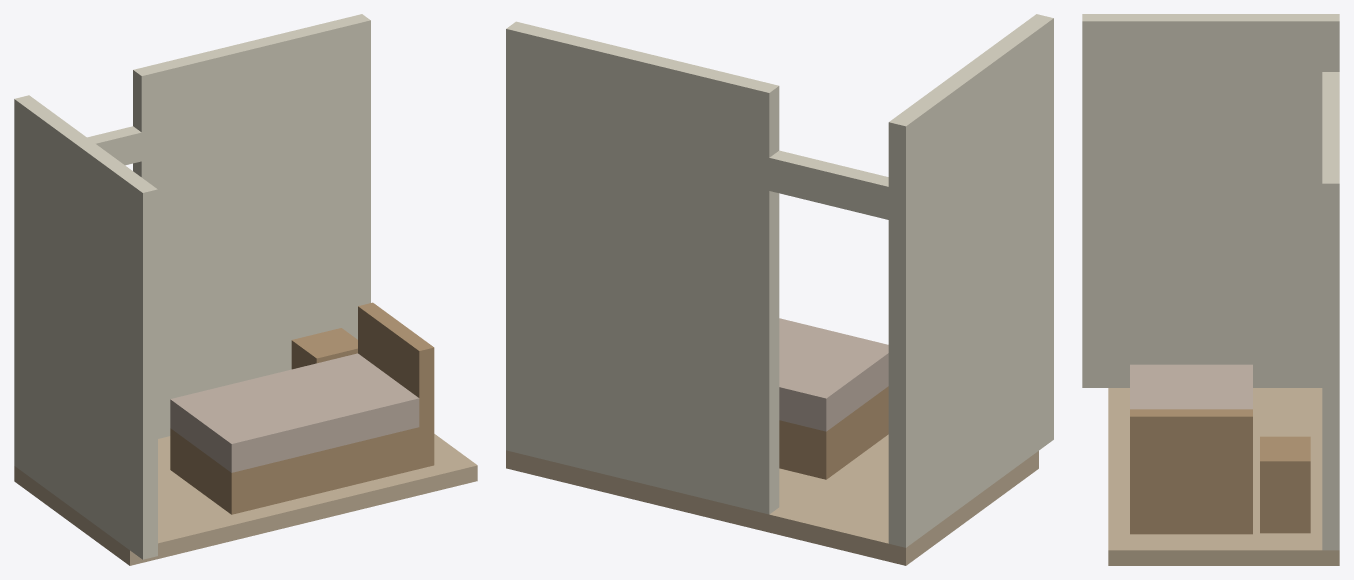
3 views of the same model, side by side, from view 1: azimuth 30°, elevation 25°; view 2: azimuth 150°, elevation 25°; view 3: azimuth 270°, elevation 25° (orthographic). The views are drawn at different scales.
Visible parts, largest first — view 1: BEDN_2, BEDW_1, BED2_7, GROUND_0, BED1_6, BEDH_8, NT1_9, BEDD-lintel_5; view 2: BEDN_2, BEDW_1, GROUND_0, BED2_7, BED1_6, BEDD-lintel_5, BEDD-j2_4, BEDD-j1_3; view 3: BEDW_1, GROUND_0, BEDH_8, BEDN_2, BED2_7, NT1_9.
Part boxes in pixels (left/top/right/bottom): BEDN_2: left=133, top=14, right=370, bottom=438; BEDW_1: left=14, top=95, right=157, bottom=559; BED2_7: left=170, top=353, right=419, bottom=472; GROUND_0: left=14, top=434, right=477, bottom=565; BED1_6: left=170, top=427, right=419, bottom=514; BEDH_8: left=358, top=302, right=434, bottom=468; NT1_9: left=291, top=328, right=357, bottom=369; BEDD-lintel_5: left=87, top=126, right=141, bottom=165; BEDN_2: left=506, top=21, right=779, bottom=514; BEDW_1: left=888, top=14, right=1053, bottom=547; GROUND_0: left=506, top=434, right=1038, bottom=565; BED2_7: left=779, top=318, right=888, bottom=431; BED1_6: left=779, top=386, right=888, bottom=479; BEDD-lintel_5: left=769, top=150, right=888, bottom=219; BEDD-j2_4: left=758, top=166, right=779, bottom=513; BEDD-j1_3: left=888, top=198, right=900, bottom=545; BEDW_1: left=1082, top=14, right=1339, bottom=387; GROUND_0: left=1108, top=388, right=1339, bottom=565; BEDH_8: left=1130, top=409, right=1252, bottom=534; BEDN_2: left=1322, top=72, right=1339, bottom=550; BED2_7: left=1130, top=364, right=1252, bottom=409; NT1_9: left=1260, top=436, right=1310, bottom=533.
Bounding box in the file's own units: 2.78 × 2.92 × 1.78.
